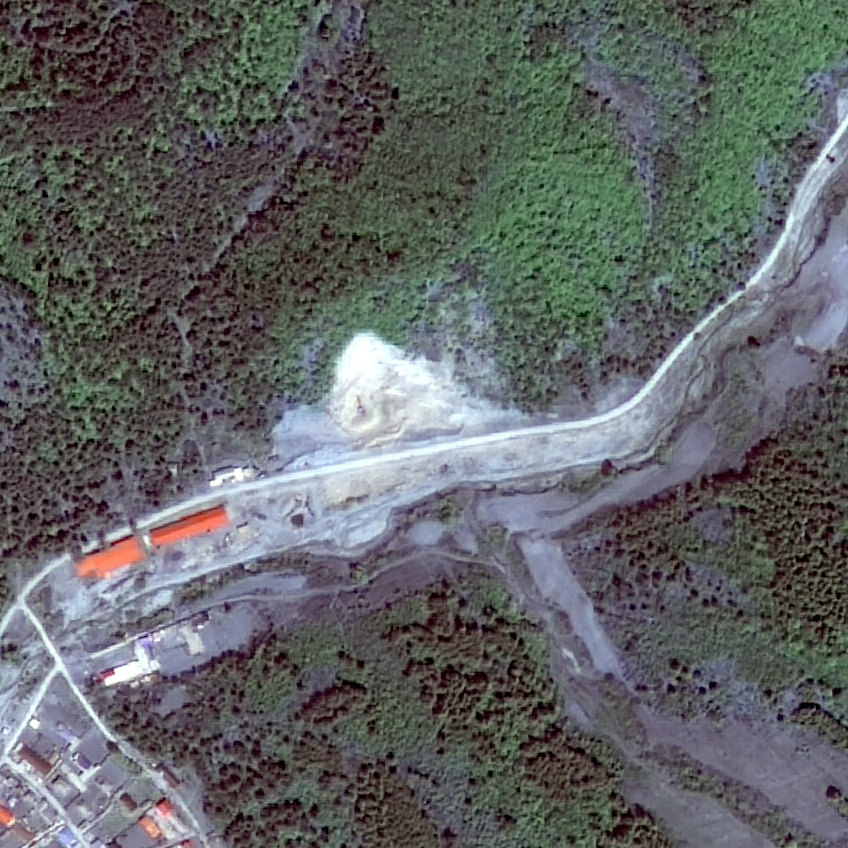slope: (279, 327, 518, 464)
